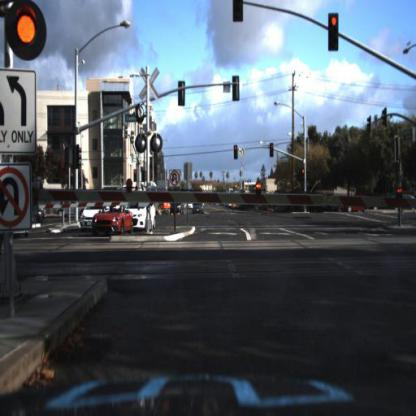car: (90, 203, 134, 236), (51, 197, 94, 224), (125, 198, 156, 232), (78, 199, 104, 231), (342, 194, 378, 217), (30, 212, 45, 234), (171, 197, 185, 218), (31, 202, 49, 215), (334, 199, 347, 217), (193, 199, 204, 215), (172, 202, 185, 214)
pedestrian: (396, 185, 406, 227)
trafficLight: (324, 9, 345, 58), (232, 138, 243, 164), (234, 2, 246, 25)
trafficLight-Red: (1, 1, 70, 67), (12, 3, 44, 55), (329, 14, 341, 52), (267, 140, 277, 161), (301, 162, 310, 181), (234, 144, 239, 162), (271, 142, 275, 158)
